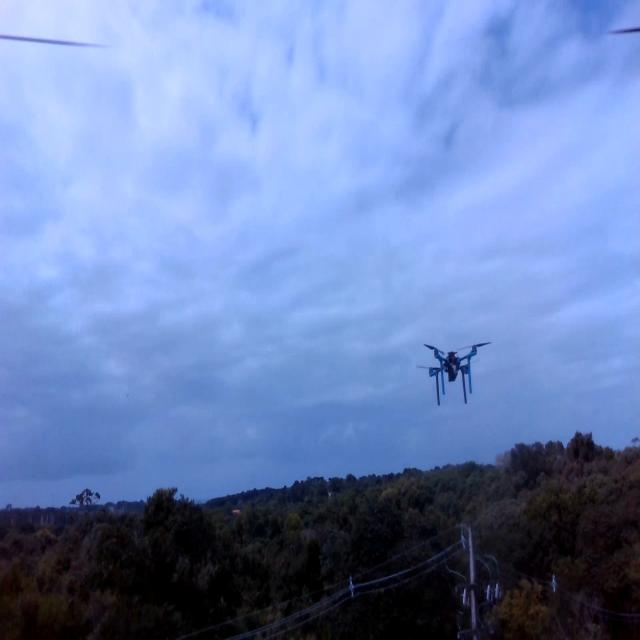-uav-: (416, 327, 492, 424)
